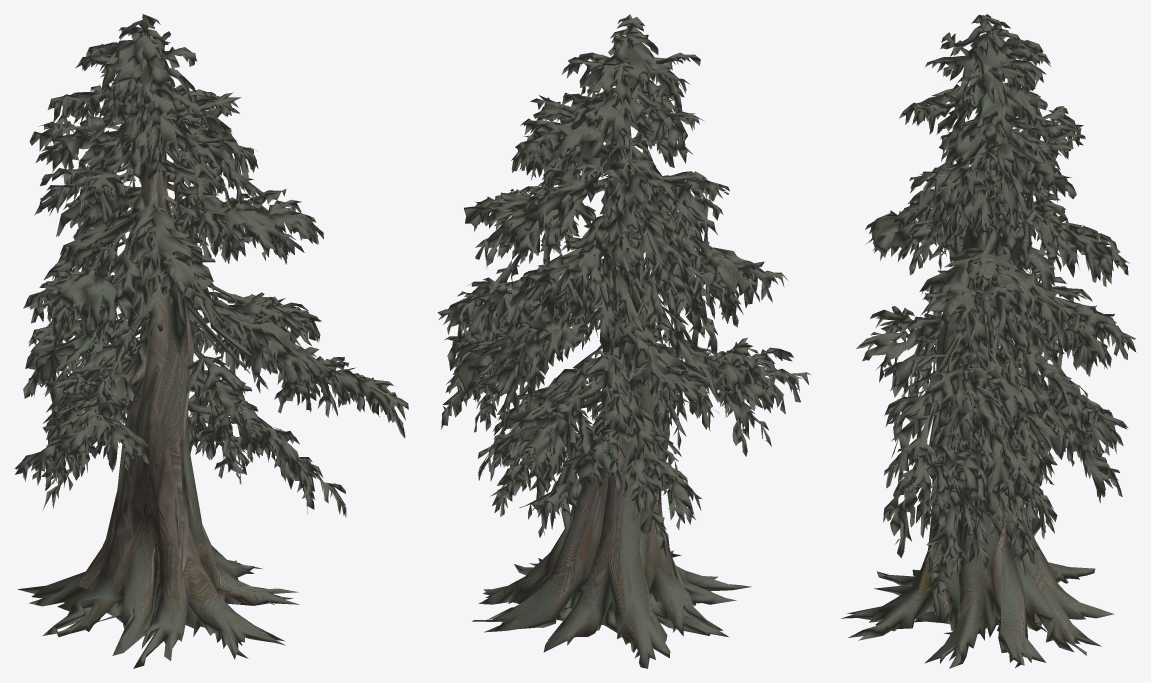
File: tree_cedar.glb
The picture shows the model from 3 angles, left to right: view 1: azimuth 30°, elevation 25°; view 2: azimuth 150°, elevation 25°; view 3: azimuth 270°, elevation 25°; orthographic projection.
Parts seen in each view (by area): view 1: tree_cedar; view 2: tree_cedar; view 3: tree_cedar.
Part boxes in pixels (x1=…): tree_cedar: x1=14, y1=14, x2=408, y2=668; tree_cedar: x1=437, y1=14, x2=811, y2=668; tree_cedar: x1=841, y1=14, x2=1136, y2=668.
Size of the model in its own units: 117 by 190 by 86.15.
1 material, 1 textured.
